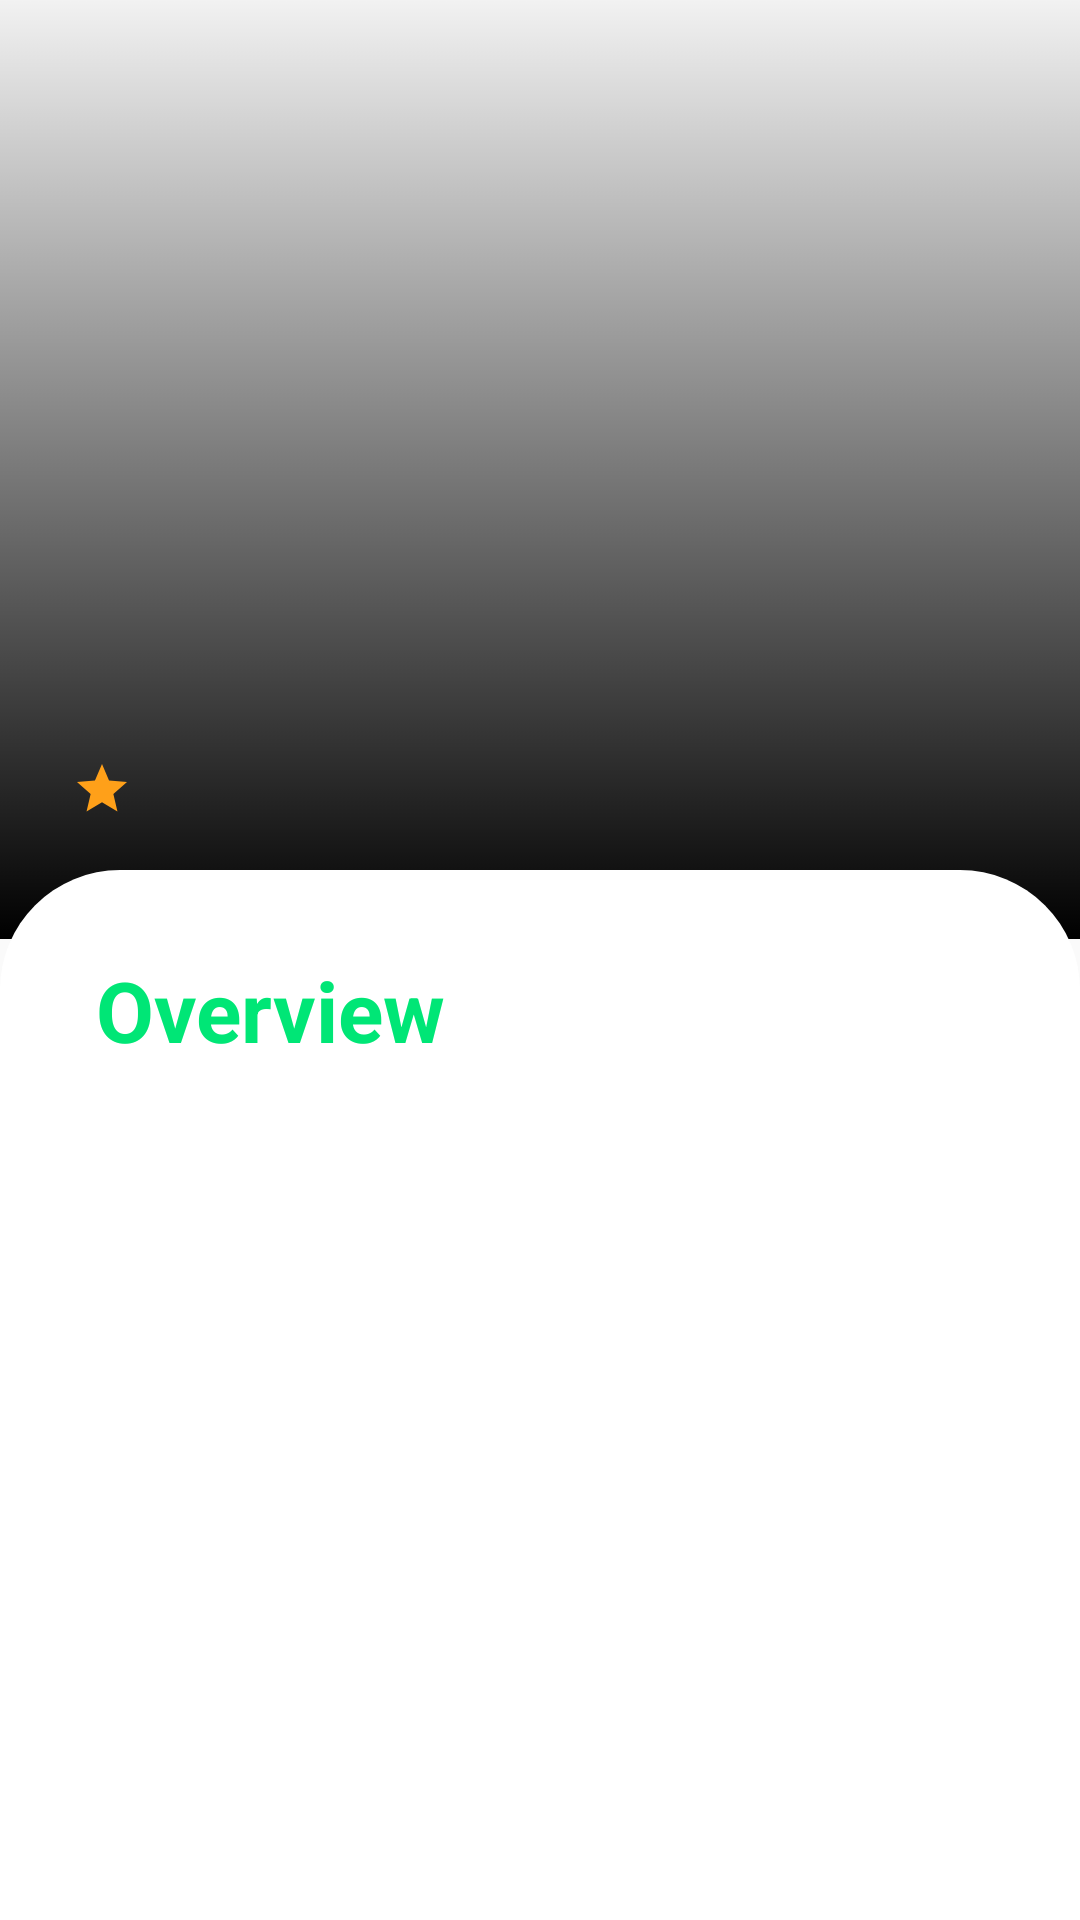

Point at icon controls on the screen. Image size 1080*1920, points as (x=x, y=y).
star: (x=102, y=787)
